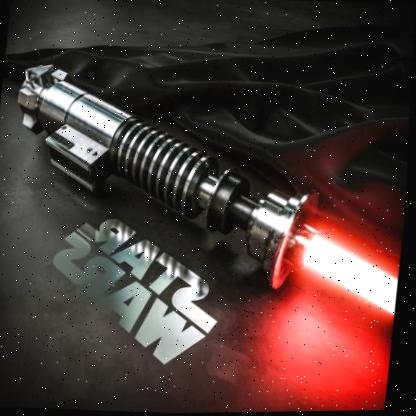sith_lightsaber: (8, 57, 400, 323)
